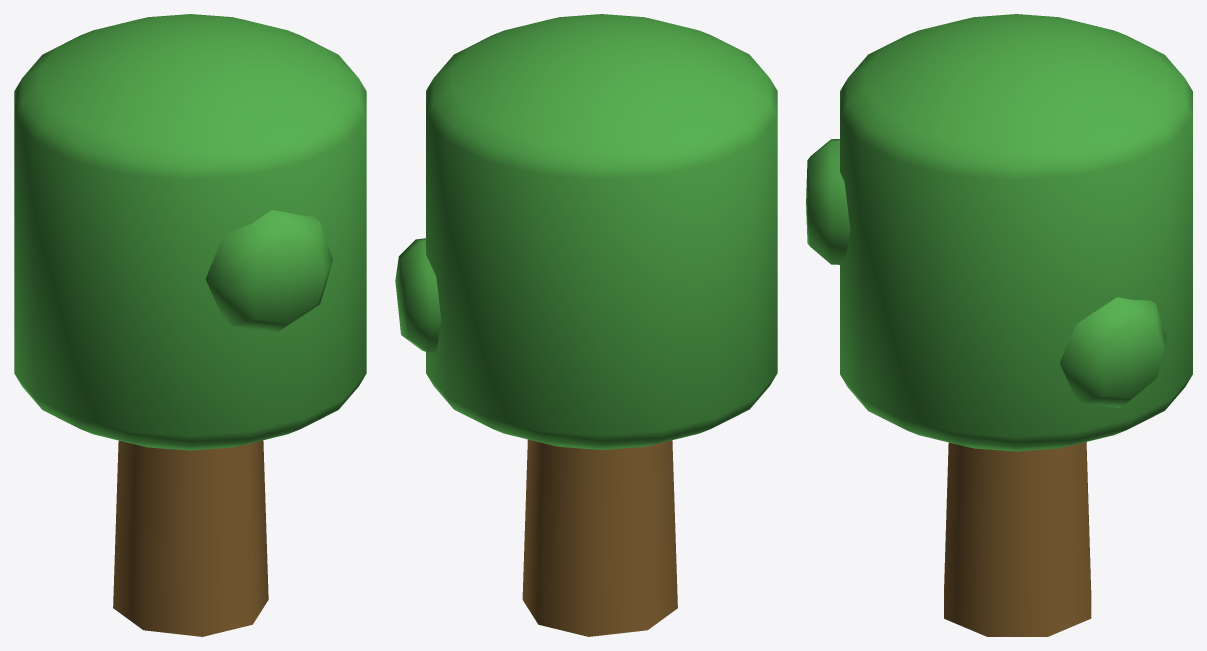
File: tree03_s03.FBX
3 views of the same model, side by side, from view 1: azimuth 30°, elevation 25°; view 2: azimuth 150°, elevation 25°; view 3: azimuth 270°, elevation 25° (orthographic).
Parts seen in each view (by area): view 1: tree03_s03; view 2: tree03_s03; view 3: tree03_s03.
Boxes of the visible parts, box(x1,y1,x2,y2) form: tree03_s03: box(14, 14, 366, 636); tree03_s03: box(395, 14, 777, 636); tree03_s03: box(806, 14, 1192, 636).
Size of the model in its own units: 155 by 163 by 262.
Materials: 1 (1 with a texture image).
